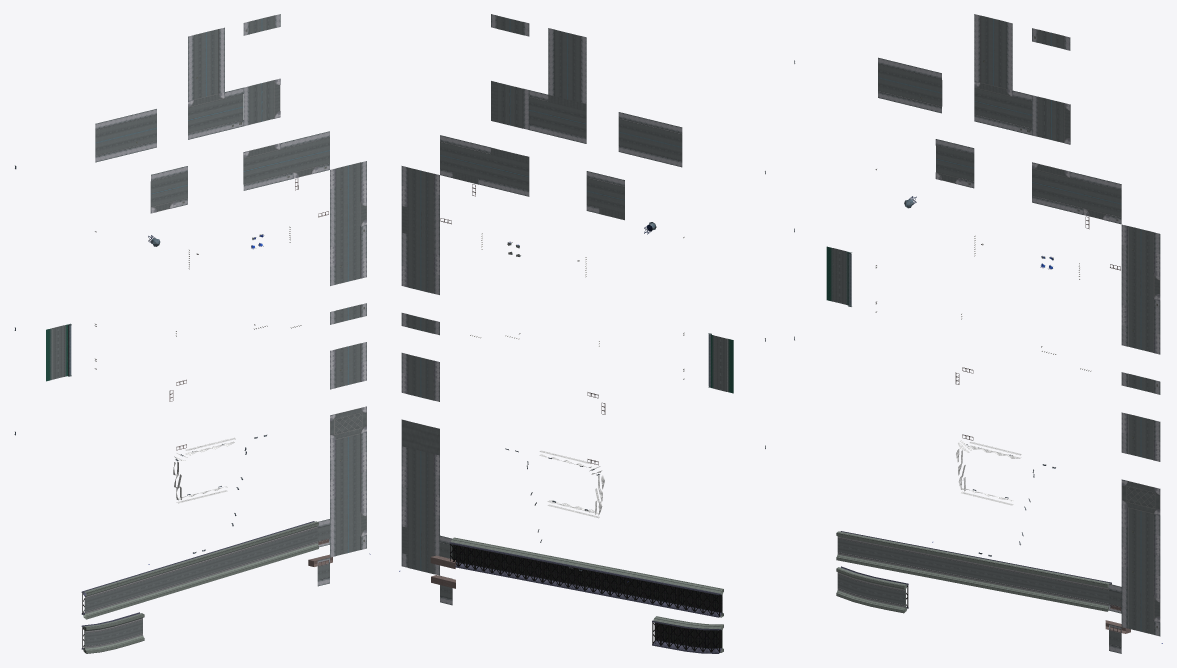
Rendered from industsw_industsw__part_05.obj.
The picture shows the model from 3 angles, left to right: view 1: azimuth 30°, elevation 25°; view 2: azimuth 150°, elevation 25°; view 3: azimuth 330°, elevation 25°; orthographic projection. The views are drawn at different scales.
Parts seen in each view (by area): view 1: industsw_industsw__part_05; view 2: industsw_industsw__part_05; view 3: industsw_industsw__part_05.
Boxes of the visible parts, x1,y1,x2,y2 form: industsw_industsw__part_05: (14,14,370,653); industsw_industsw__part_05: (399,14,765,653); industsw_industsw__part_05: (794,14,1162,653).
Size of the model in its own units: 288 by 450 by 29.64.
Materials: 96 (96 with a texture image).
